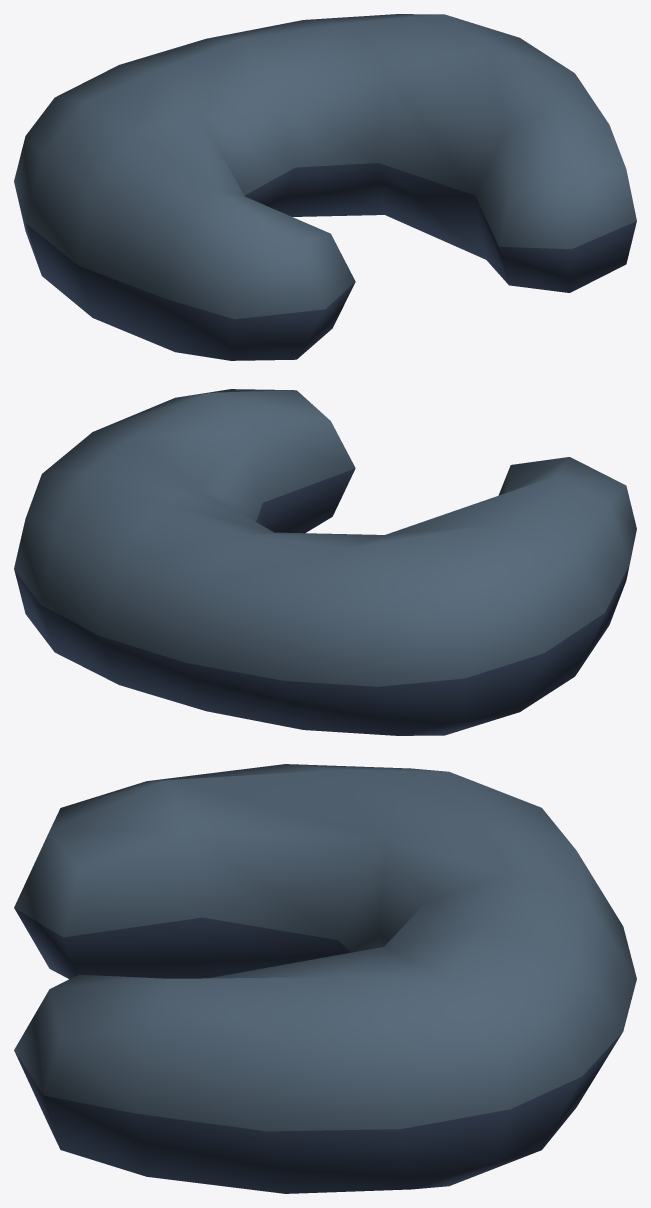
File: PROP_Pillow.fbx
3 views of the same model, one above another, from view 1: azimuth 30°, elevation 25°; view 2: azimuth 150°, elevation 25°; view 3: azimuth 270°, elevation 25° (orthographic). The views are drawn at different scales.
Parts seen in each view (by area): view 1: Pillow; view 2: Pillow; view 3: Pillow.
Part boxes in pixels (x1,y1,x2,y2): Pillow: (14, 14, 636, 360); Pillow: (14, 389, 636, 735); Pillow: (14, 764, 636, 1193).
Size of the model in its own units: 0.4727 by 0.1524 by 0.4081.
